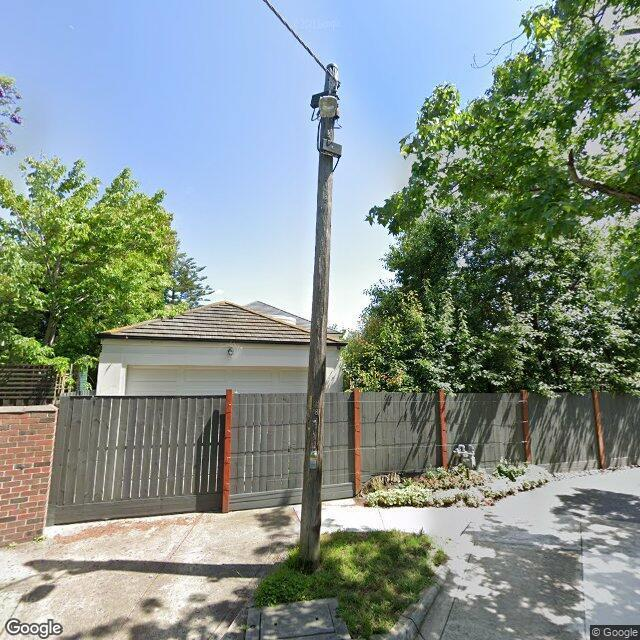streetlight: (319, 96, 338, 138)
timber-pole: (298, 63, 339, 567)
